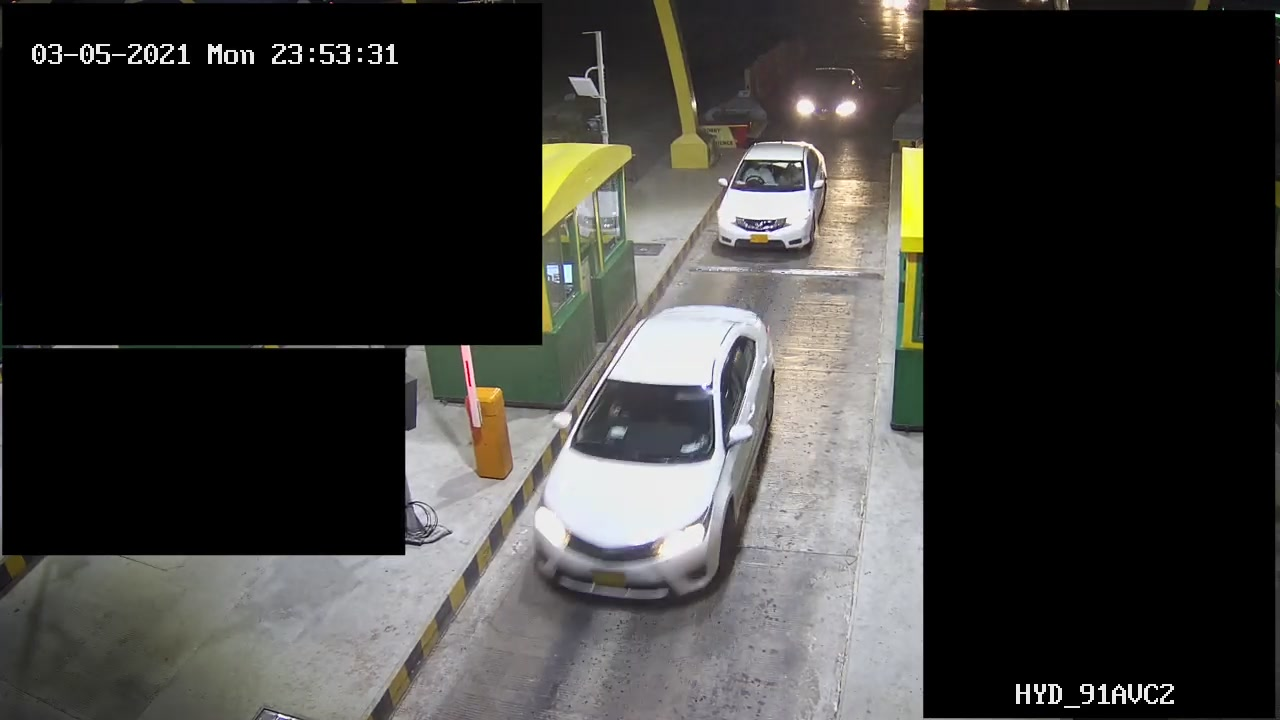F1: (514, 301, 788, 612), (704, 136, 836, 262)
